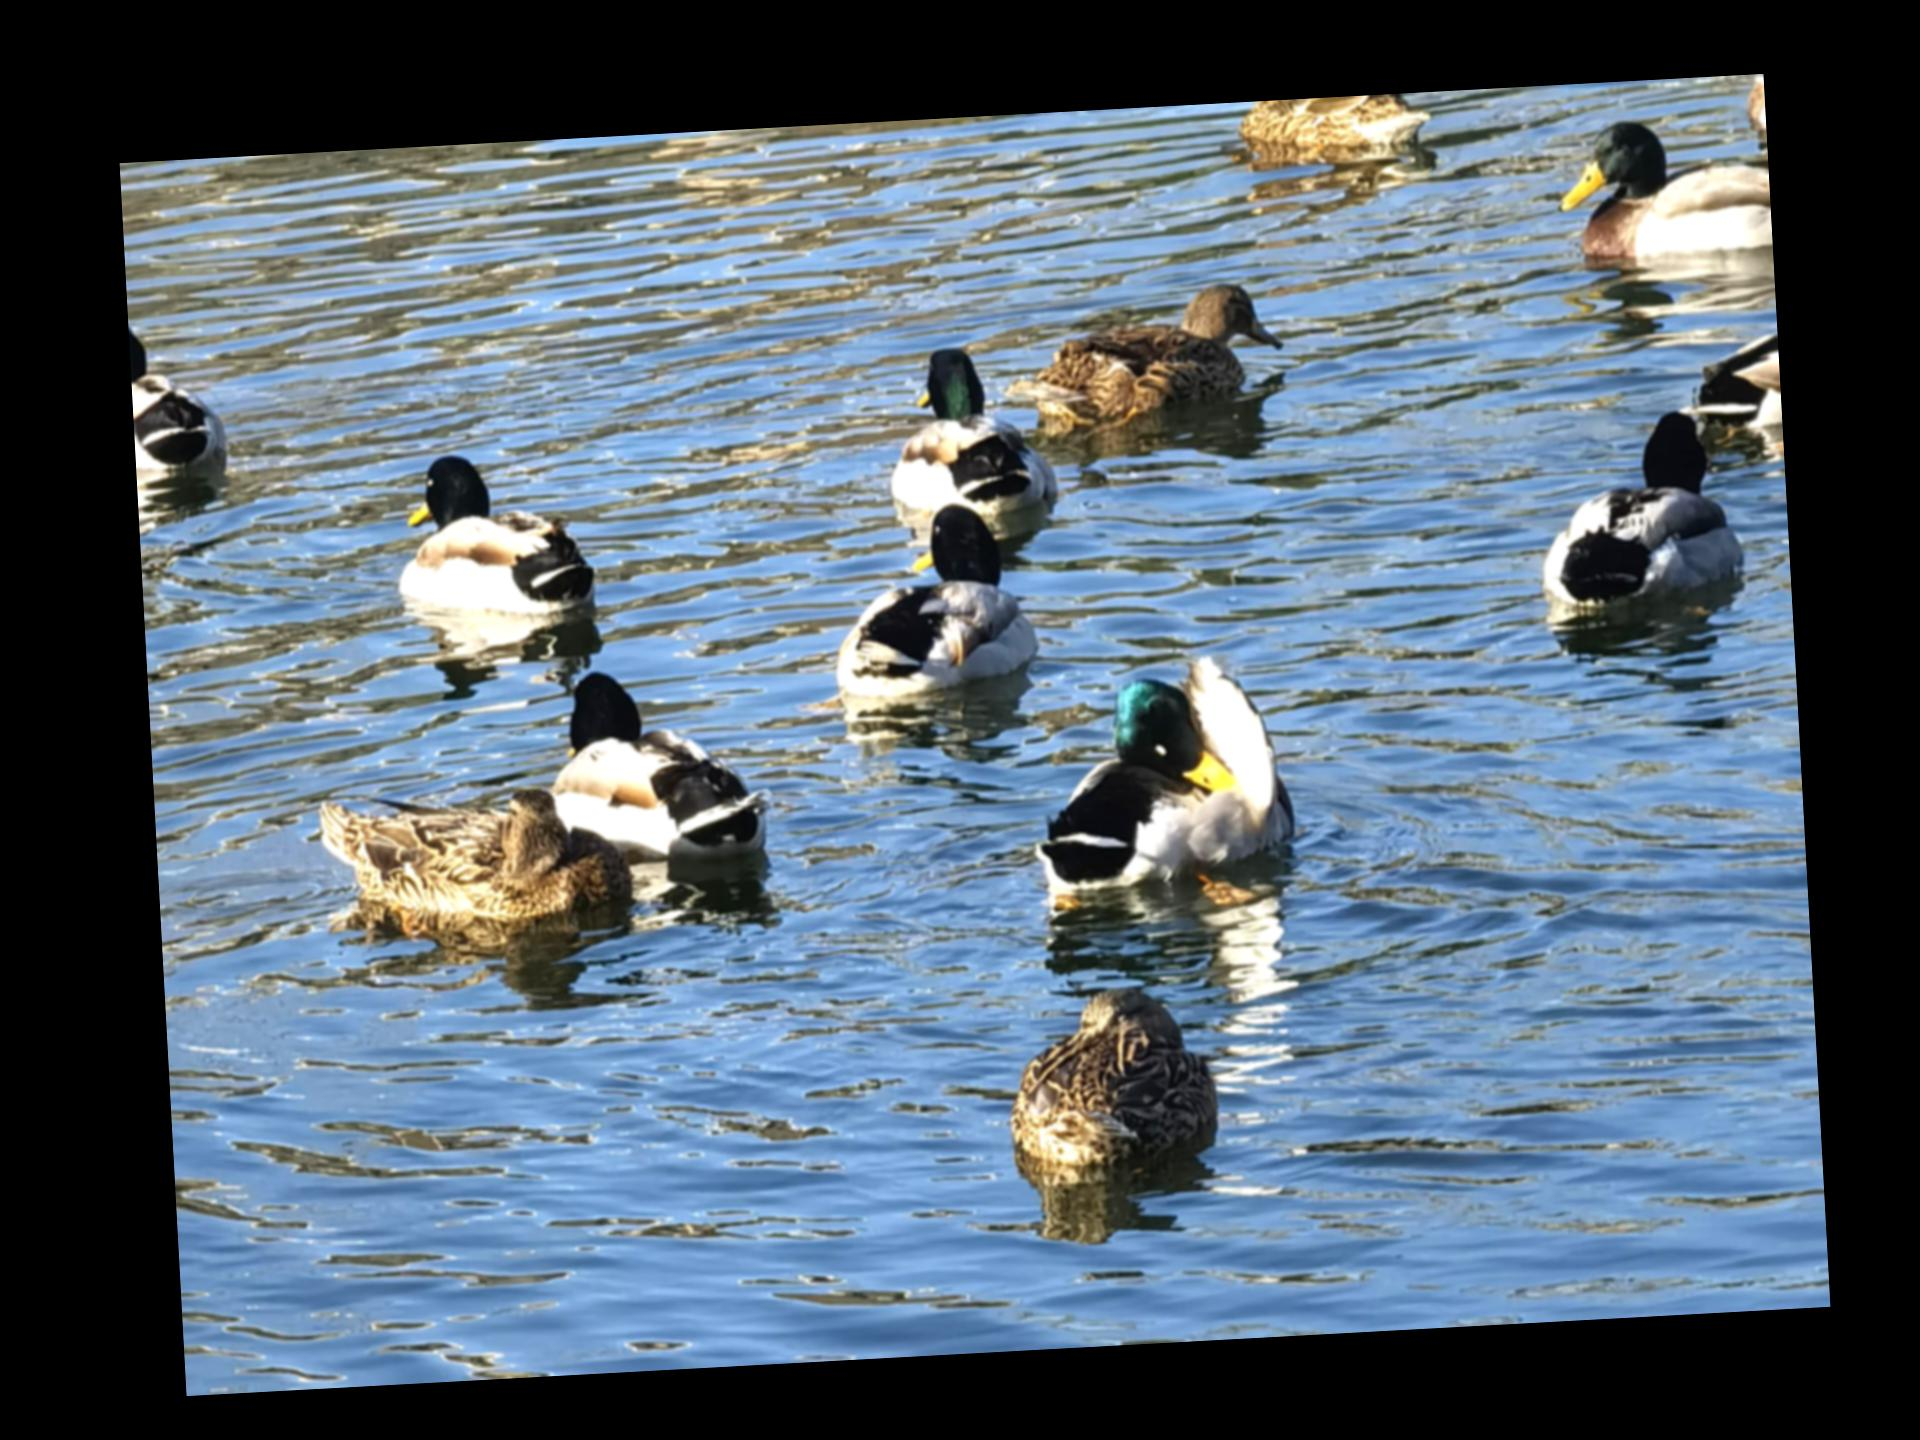duck: (1008, 634, 1299, 923), (299, 771, 649, 950), (1507, 392, 1742, 644), (971, 980, 1250, 1189), (379, 424, 611, 673), (807, 492, 1046, 732), (520, 658, 776, 879), (853, 330, 1072, 576), (1010, 265, 1285, 449), (1525, 104, 1772, 284), (125, 307, 237, 532), (1211, 92, 1429, 185)
